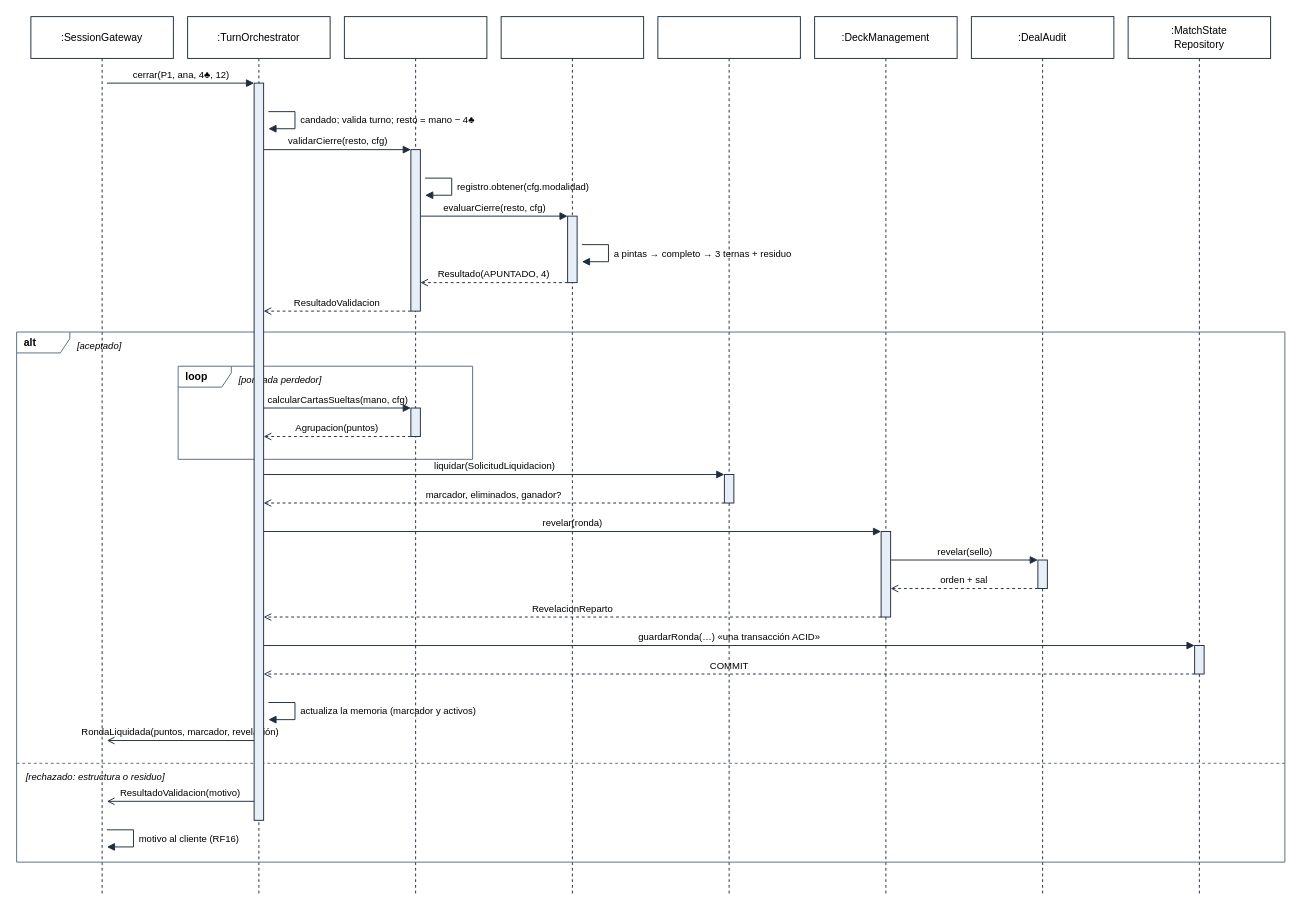
The diagram is 1302 pixels wide and 913 high, and some of its shapes have lost their labels. The box of each missing label's shape, as (x1, y1, x2, y2) in pixels:
:HandEvaluator: (343, 16, 487, 896)
:RoundScoring: (657, 16, 800, 896)
«strategy» :ReglaApuntado101: (500, 16, 644, 896)
